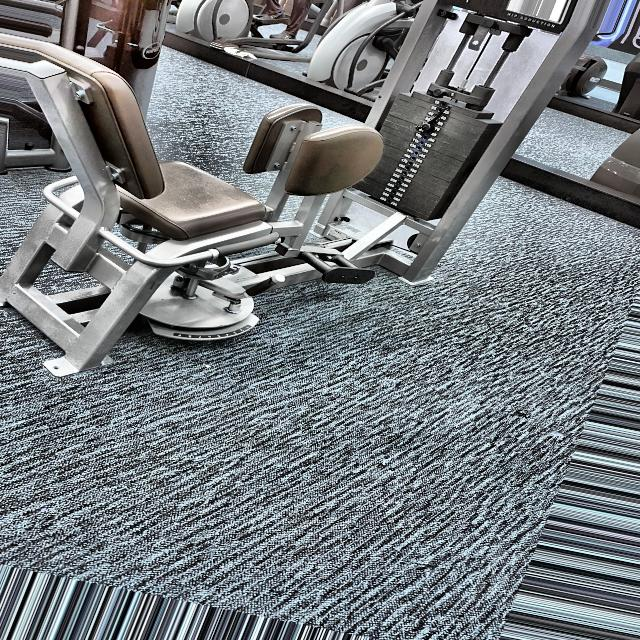hip_adduction_machine: (36, 39, 411, 358), (504, 10, 566, 33)
